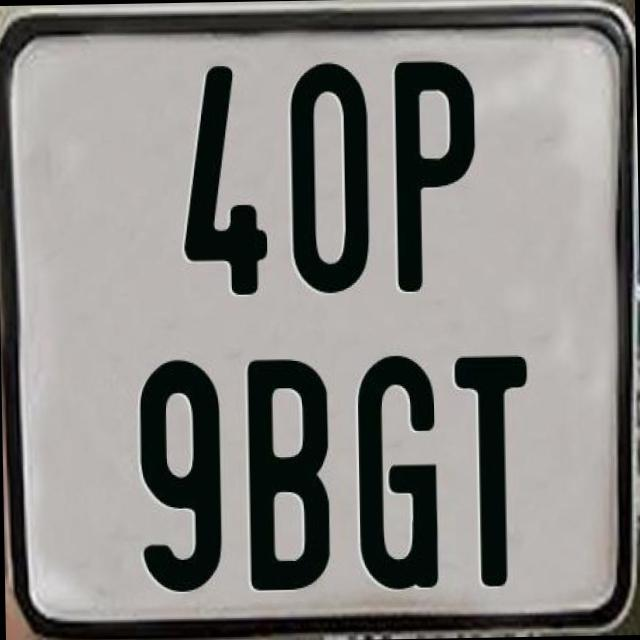0: (286, 62, 370, 298)
4: (179, 62, 273, 296)
9: (135, 357, 219, 590)
B: (246, 353, 336, 594)
G: (354, 350, 438, 588)
P: (394, 55, 476, 293)
T: (454, 350, 530, 590)
